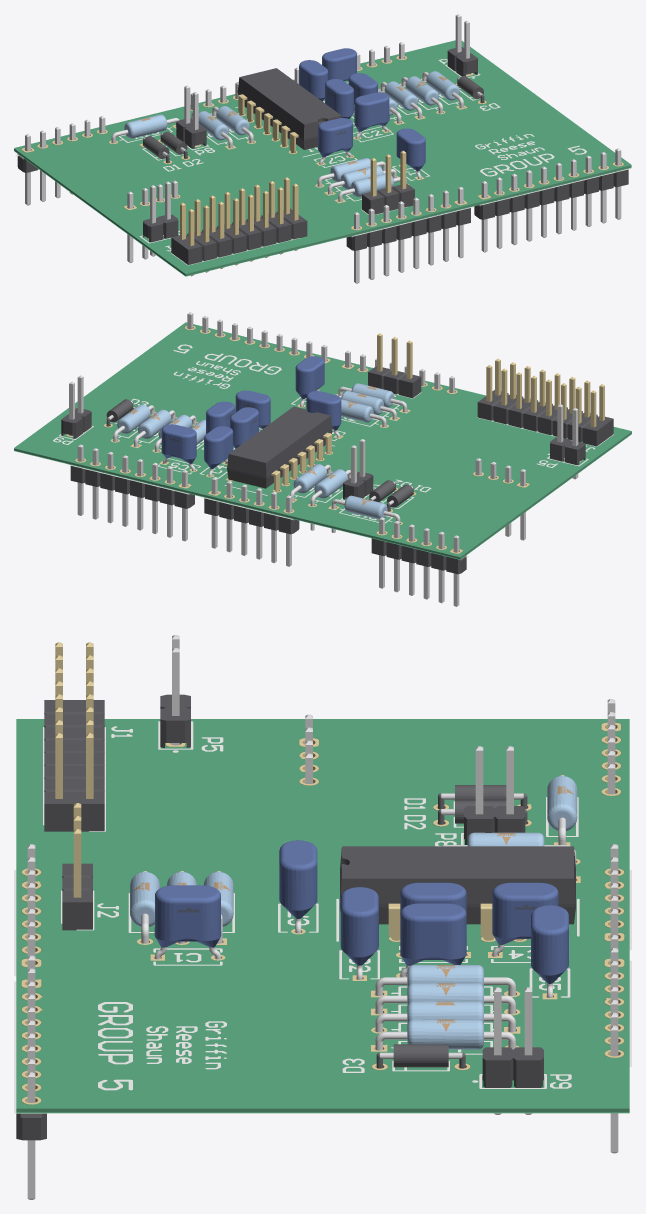
File: spotwelder-pcb.glb
3 renders of one model, top to bottom at view 1: azimuth 30°, elevation 25°; view 2: azimuth 150°, elevation 25°; view 3: azimuth 270°, elevation 25°, orthographic. The views are drawn at different scales.
Visible parts, largest first — view 1: solder_b, mat_18, mat_25, mat_19, mat_20, mat_26, mat_23, silk_b, core, copper, mat_21, mat_28 (+2 smaller); view 2: solder_b, mat_18, mat_25, mat_19, mat_20, mat_26, mat_23, silk_b, core, copper, mat_21, mat_28 (+1 smaller); view 3: solder_b, mat_20, mat_25, mat_23, mat_18, silk_b, mat_19, copper, core, mat_26, mat_21, mat_28 (+3 smaller).
Boxes of the visible parts, bbox=[...] form: solder_b: bbox=[14, 40, 631, 273]; mat_18: bbox=[25, 14, 621, 283]; mat_25: bbox=[171, 68, 414, 264]; mat_19: bbox=[17, 47, 628, 250]; mat_20: bbox=[299, 48, 425, 171]; mat_26: bbox=[180, 94, 406, 276]; mat_23: bbox=[124, 71, 459, 197]; silk_b: bbox=[119, 59, 586, 265]; core: bbox=[14, 55, 631, 275]; copper: bbox=[21, 56, 623, 239]; mat_21: bbox=[111, 72, 463, 201]; mat_28: bbox=[143, 76, 483, 159]; solder_b: bbox=[14, 322, 631, 556]; mat_18: bbox=[69, 312, 578, 606]; mat_25: bbox=[227, 366, 613, 488]; mat_19: bbox=[61, 408, 585, 574]; mat_20: bbox=[161, 356, 341, 468]; mat_26: bbox=[227, 333, 604, 491]; mat_23: bbox=[117, 383, 394, 519]; silk_b: bbox=[53, 344, 613, 523]; core: bbox=[14, 325, 631, 559]; copper: bbox=[66, 326, 580, 553]; mat_21: bbox=[113, 386, 407, 532]; mat_28: bbox=[106, 399, 413, 507]; solder_b: bbox=[16, 719, 629, 1107]; mat_20: bbox=[154, 840, 568, 983]; mat_25: bbox=[44, 700, 575, 930]; mat_23: bbox=[130, 776, 577, 1049]; mat_18: bbox=[27, 635, 618, 1199]; silk_b: bbox=[43, 721, 579, 1090]; mat_19: bbox=[16, 694, 543, 1140]; copper: bbox=[21, 722, 624, 1104]; core: bbox=[16, 722, 629, 1112]; mat_26: bbox=[55, 642, 523, 940]; mat_21: bbox=[141, 775, 576, 1050]; mat_28: bbox=[393, 785, 506, 1067].
Size of the model in its own units: 0.1951 by 0.045 by 0.13.
